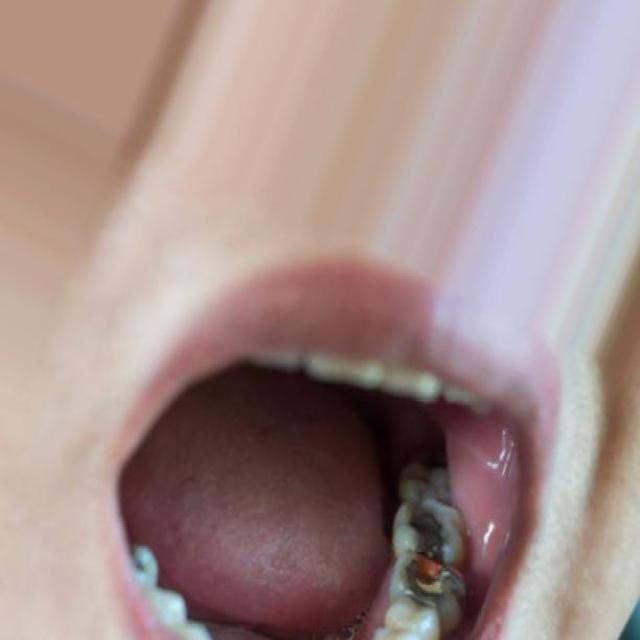caries: (393, 550, 469, 616), (400, 498, 454, 560)
